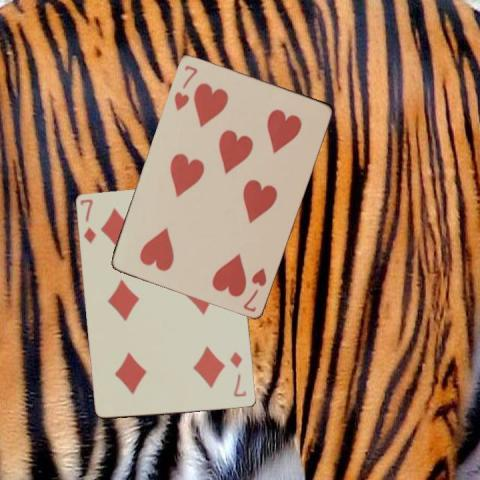7d: (227, 348, 248, 398), (77, 196, 98, 246)
7h: (170, 62, 198, 112), (240, 265, 268, 313)
